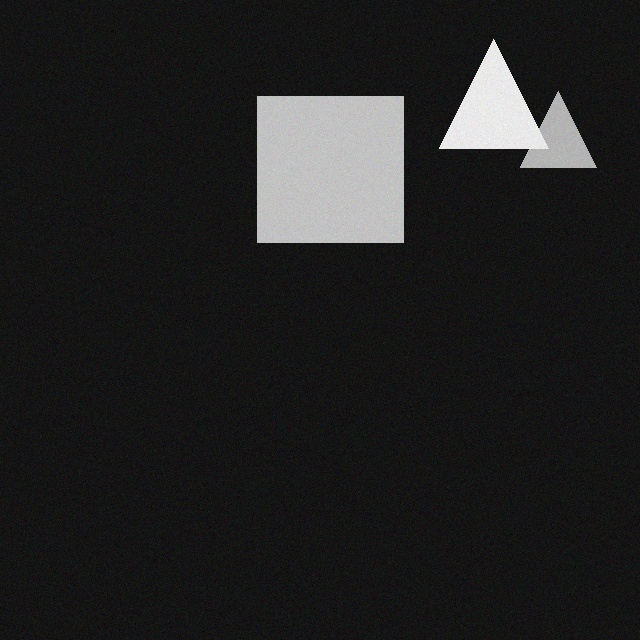square: (272, 110, 418, 256)
triangle: (454, 53, 563, 162), (535, 105, 611, 181)
